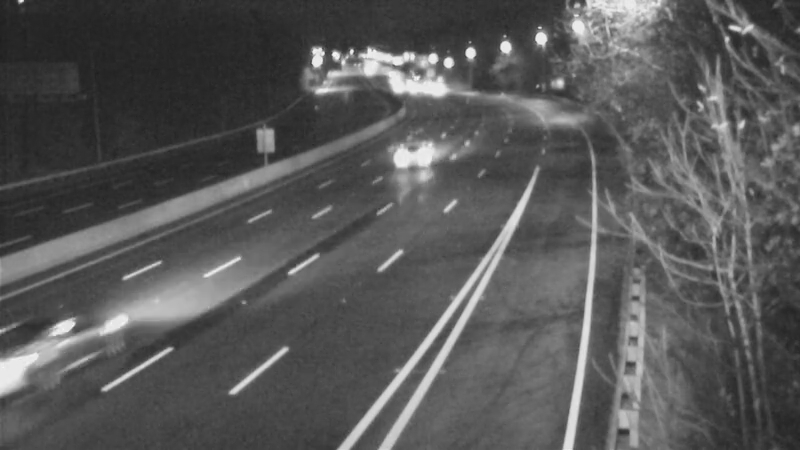vehicle: (4, 289, 114, 399), (378, 116, 458, 196)
